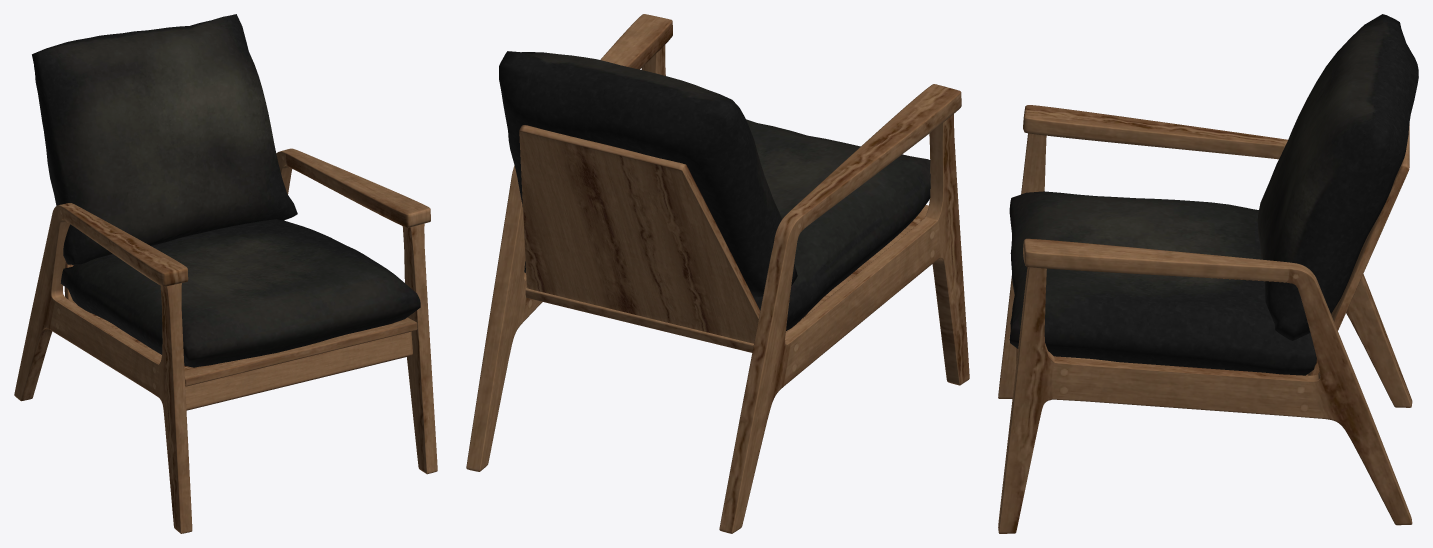
The model's file is armchair_modern.glb.
3 renders of one model, left to right at view 1: azimuth 30°, elevation 25°; view 2: azimuth 150°, elevation 25°; view 3: azimuth 270°, elevation 25°, orthographic. The views are drawn at different scales.
Parts seen in each view (by area): view 1: modern_arm_chair_01; view 2: modern_arm_chair_01; view 3: modern_arm_chair_01.
Boxes of the visible parts, x1,y1,x2,y2 form: modern_arm_chair_01: (14, 14, 437, 533); modern_arm_chair_01: (466, 14, 969, 533); modern_arm_chair_01: (998, 14, 1418, 533).
Size of the model in its own units: 0.8203 by 1.02 by 0.9866.
2 materials, 2 textured.
